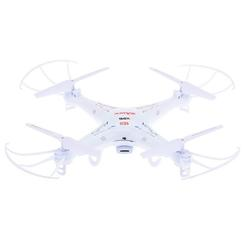drone: (2, 57, 245, 184)
